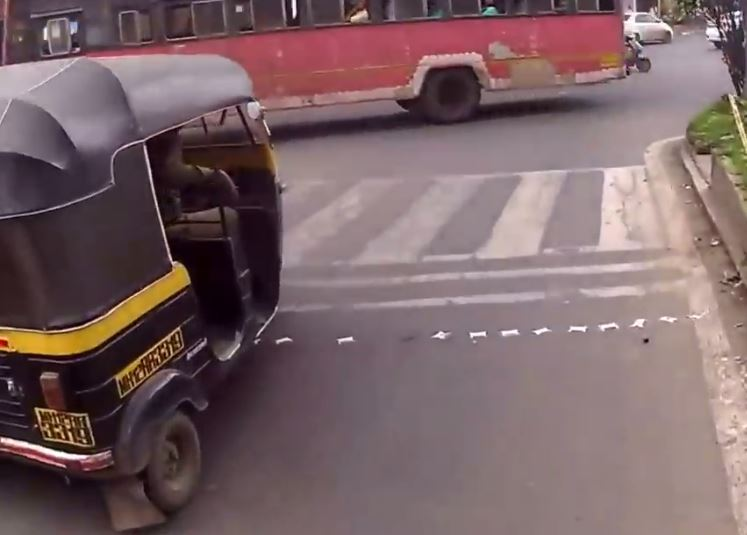autorickshaw: (1, 52, 293, 520)
car: (624, 4, 678, 52)
